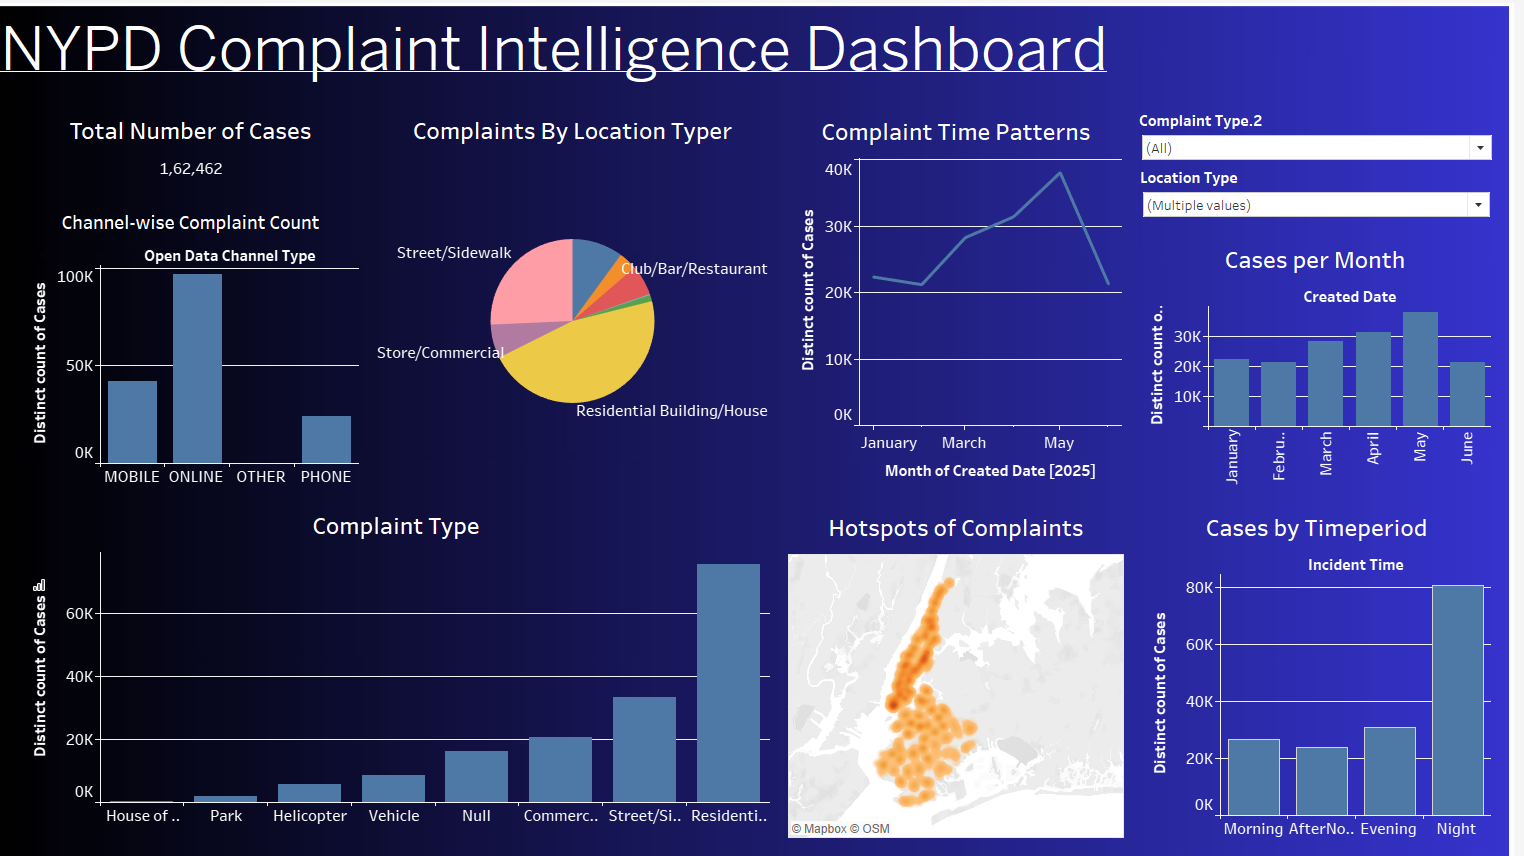

Layout of this report page (visuals, bound fields, positions):
{"tool":"tableau","page":{"name":"Dashboard 1","canvas":[1520,960],"ordinal":0},"visuals":[{"type":"image","param":"C:/Users/amitb/Downloads/4.jpg","box":[2,3,1513,919]},{"type":"text","box":[3,3,1196,84]},{"type":"worksheet","title":"Total Cases","mark":"Automatic","box":[28,107,339,75]},{"type":"worksheet","title":"Complaints by Location Type","mark":"Pie","box":[382,107,395,378]},{"type":"filter","title":"Mapped Hotspots of Complaints","param":"[federated.16strwb0fnbina19fs09i059r333].[none:Complaint Type.2:nk]","box":[1145,107,356,54]},{"type":"worksheet","title":"Complaint Time Pattern","mark":"Automatic","rows":["Unique Key"],"cols":["Created Date"],"box":[796,108,332,377]},{"type":"filter","title":"Mapped Hotspots of Complaints","param":"[federated.16strwb0fnbina19fs09i059r333].[none:Location Type:nk]","box":[1146,164,353,74]},{"type":"worksheet","title":"Channel-wise Complaint Count","mark":"Automatic","rows":["Unique Key"],"cols":["Open Data Channel Type"],"box":[28,202,337,283]},{"type":"worksheet","title":"Sheet 8","mark":"Bar","rows":["Unique Key"],"cols":["Created Date"],"box":[1145,236,352,247]},{"type":"worksheet","title":"Complaint Type","mark":"Automatic","rows":["Unique Key"],"cols":["Complaint Type.2"],"box":[28,502,748,337]},{"type":"worksheet","title":"Mapped Hotspots of Complaints","mark":"Heatmap","rows":["Latitude"],"cols":["Longitude"],"box":[794,504,336,331]},{"type":"worksheet","title":"Cases by Time Period","mark":"Automatic","rows":["Unique Key"],"cols":["Incident Time"],"box":[1148,504,349,333]}]}

Visuals, with their boxes on the page's 1520x960 design canvas (x1, y1, x2, y2). These are canvas units, not pixel positions in the 1524x856 screenshot, which may show the page scaled, cropped or inside an application window:
image: detection(2, 3, 1515, 922)
text: detection(3, 3, 1199, 87)
"Total Cases" worksheet: detection(28, 107, 367, 182)
"Complaints by Location Type" worksheet (Pie marks): detection(382, 107, 777, 485)
"Mapped Hotspots of Complaints" filter: detection(1145, 107, 1501, 161)
"Complaint Time Pattern" worksheet: detection(796, 108, 1128, 485)
"Mapped Hotspots of Complaints" filter: detection(1146, 164, 1499, 238)
"Channel-wise Complaint Count" worksheet: detection(28, 202, 365, 485)
"Sheet 8" worksheet (Bar marks): detection(1145, 236, 1497, 483)
"Complaint Type" worksheet: detection(28, 502, 776, 839)
"Mapped Hotspots of Complaints" worksheet (Heatmap marks): detection(794, 504, 1130, 835)
"Cases by Time Period" worksheet: detection(1148, 504, 1497, 837)
